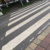zebra: (2, 1, 49, 49)
